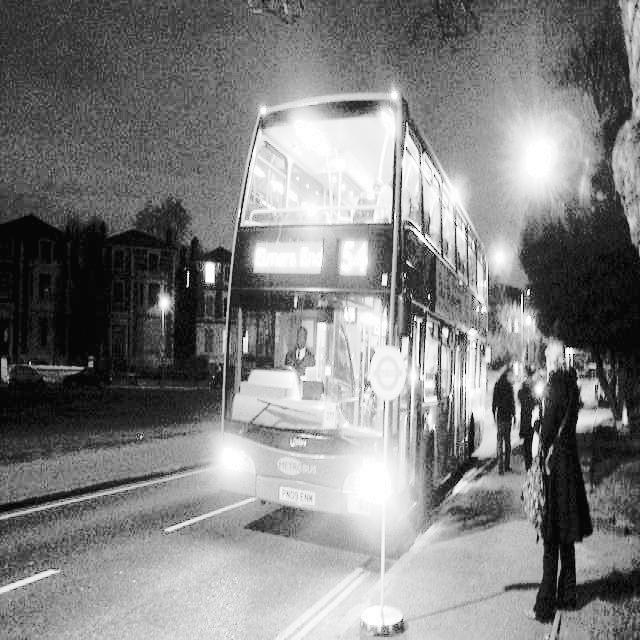Bus: (178, 120, 519, 610)
